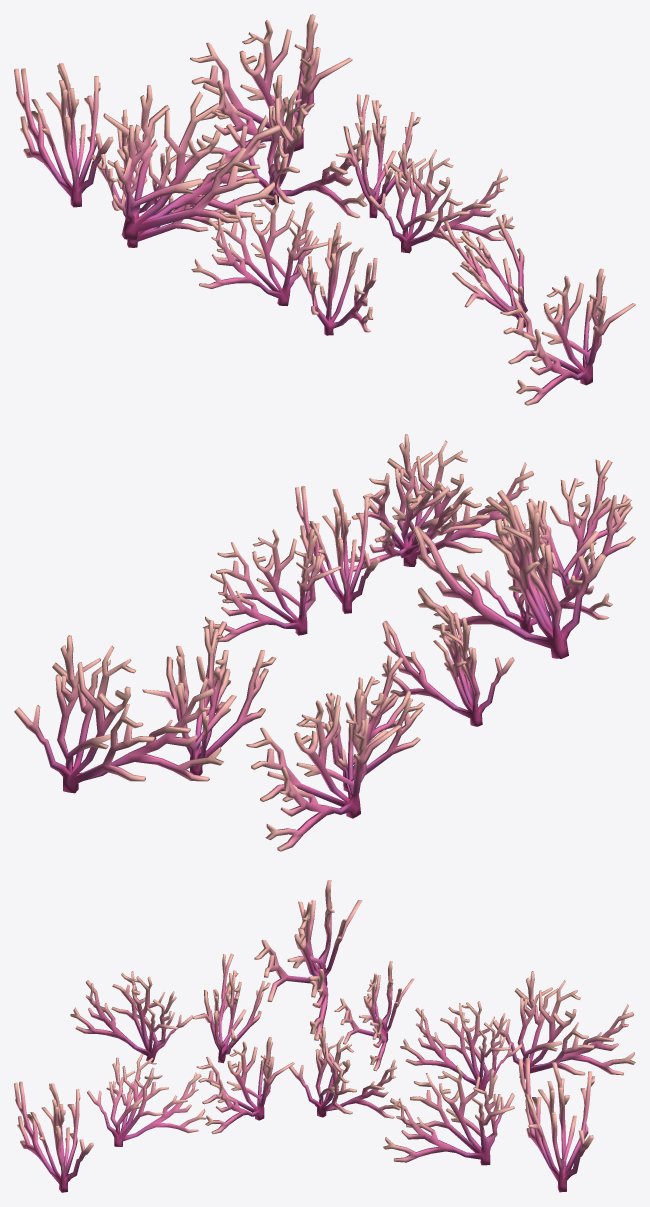
The model's file is stageObject_6.fbx.
The picture shows the model from 3 angles, top to bottom: view 1: azimuth 30°, elevation 25°; view 2: azimuth 150°, elevation 25°; view 3: azimuth 270°, elevation 25°; orthographic projection. The views are drawn at different scales.
Parts seen in each view (by area): view 1: sanog2_2; view 2: sanog2_2; view 3: sanog2_2.
Boxes of the visible parts, x1=… form: sanog2_2: x1=14, y1=14, x2=635, y2=405; sanog2_2: x1=14, y1=434, x2=635, y2=851; sanog2_2: x1=14, y1=880, x2=635, y2=1192.
Bounding box in the file's own units: 238 × 147 × 413.
1 material, 1 textured.
